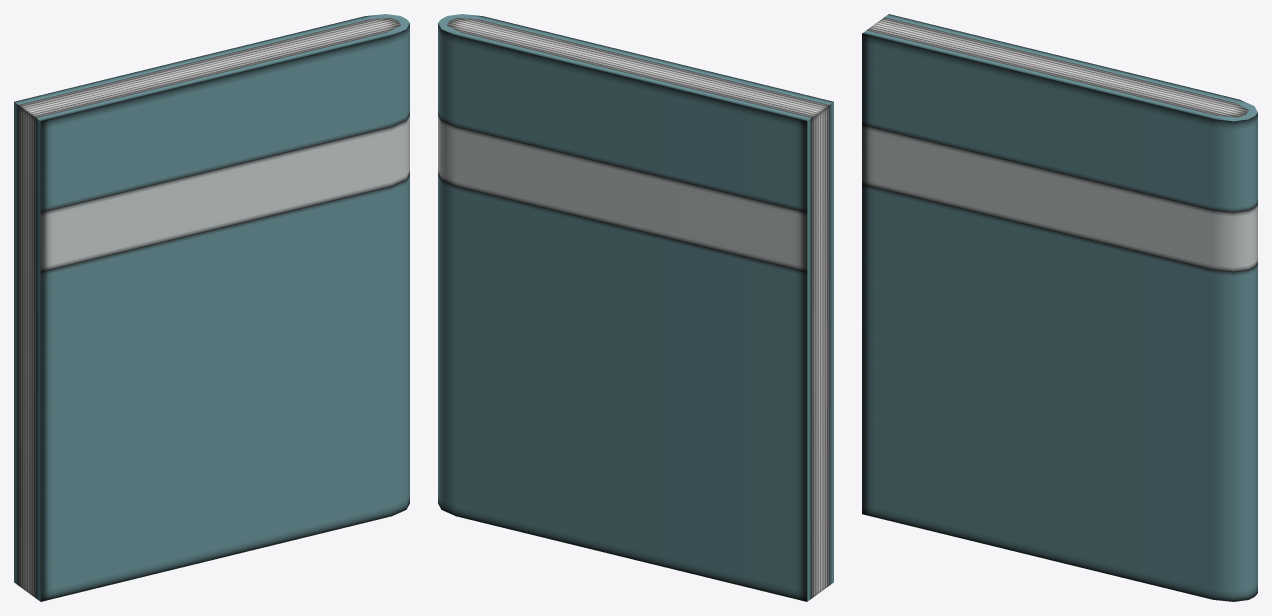
Rendered from book2.fbx.
3 renders of one model, left to right at view 1: azimuth 30°, elevation 25°; view 2: azimuth 150°, elevation 25°; view 3: azimuth 330°, elevation 25°, orthographic.
Visible parts, largest first — view 1: polySurface211; view 2: polySurface211; view 3: polySurface211.
Boxes of the visible parts, x1=… form: polySurface211: x1=14, y1=14, x2=409, y2=601; polySurface211: x1=438, y1=14, x2=833, y2=601; polySurface211: x1=862, y1=14, x2=1257, y2=601.
Bounding box in the file's own units: 0.3199 × 0.3874 × 0.0391.
